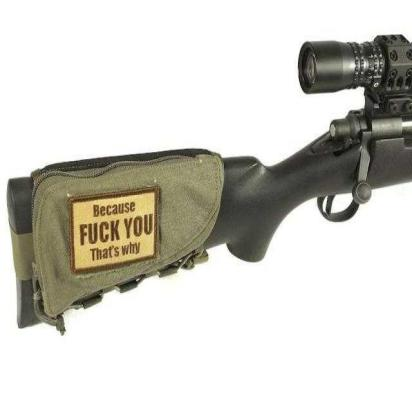Gun: (4, 27, 412, 338)
